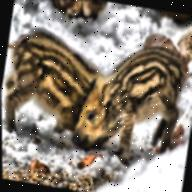boar: (65, 28, 192, 173), (0, 22, 109, 147)
